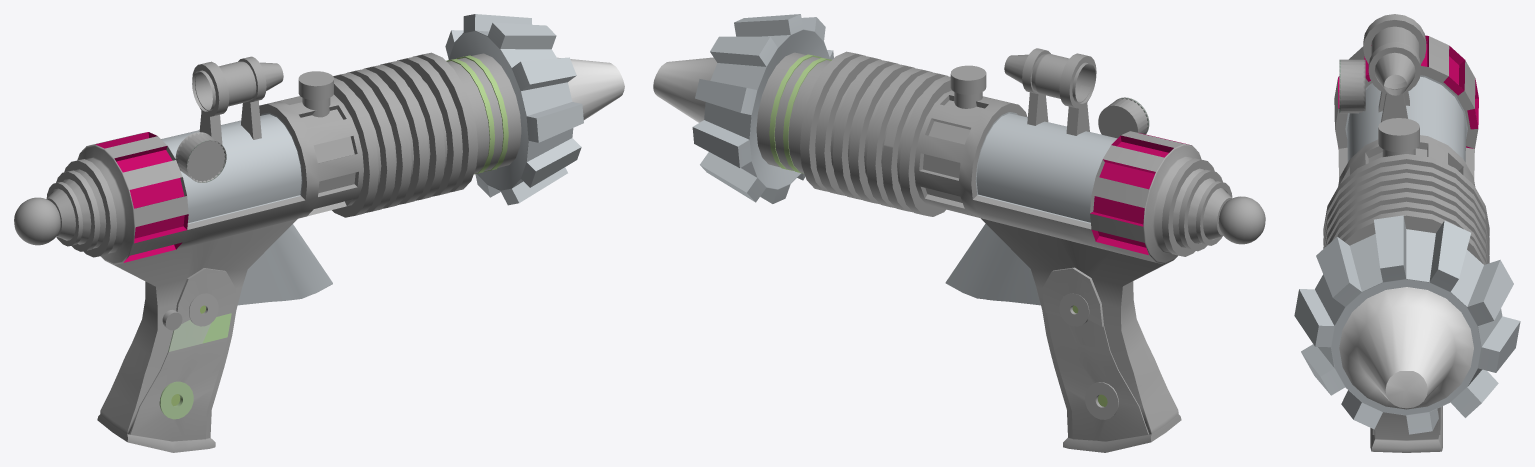
Rendered from Gun.fbx.
3 views of the same model, side by side, from view 1: azimuth 30°, elevation 25°; view 2: azimuth 150°, elevation 25°; view 3: azimuth 270°, elevation 25° (orthographic). The views are drawn at different scales.
Parts seen in each view (by area): view 1: ____:polySurface3, ____:pPipe10, ____:pCube1, ____:pCylinder2; view 2: ____:polySurface3, ____:pPipe10, ____:pCube1, ____:pCylinder2; view 3: ____:polySurface3, ____:pPipe10, ____:pCylinder2.
Boxes of the visible parts, x1,y1,x2,y2 form: ____:polySurface3: (14, 52, 624, 452); ____:pPipe10: (445, 14, 583, 205); ____:pCube1: (238, 224, 332, 305); ____:pCylinder2: (175, 132, 226, 182); ____:polySurface3: (653, 48, 1265, 452); ____:pPipe10: (692, 14, 833, 203); ____:pCube1: (945, 223, 1040, 305); ____:pCylinder2: (1098, 97, 1149, 138); ____:polySurface3: (1323, 14, 1489, 452); ____:pPipe10: (1294, 215, 1520, 434); ____:pCylinder2: (1339, 59, 1365, 113).
Size of the model in its own units: 27.86 by 16.71 by 7.78.
